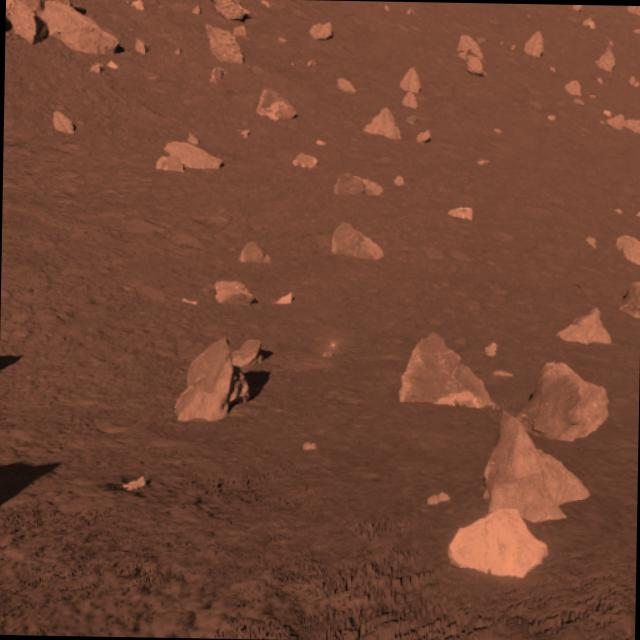rock: (481, 416, 596, 527), (508, 358, 616, 440), (395, 329, 495, 414), (448, 499, 552, 578), (164, 332, 250, 426), (35, 0, 127, 63), (556, 296, 615, 353), (154, 132, 228, 176), (323, 216, 383, 260), (362, 102, 408, 143), (612, 229, 640, 270), (48, 106, 78, 136)
